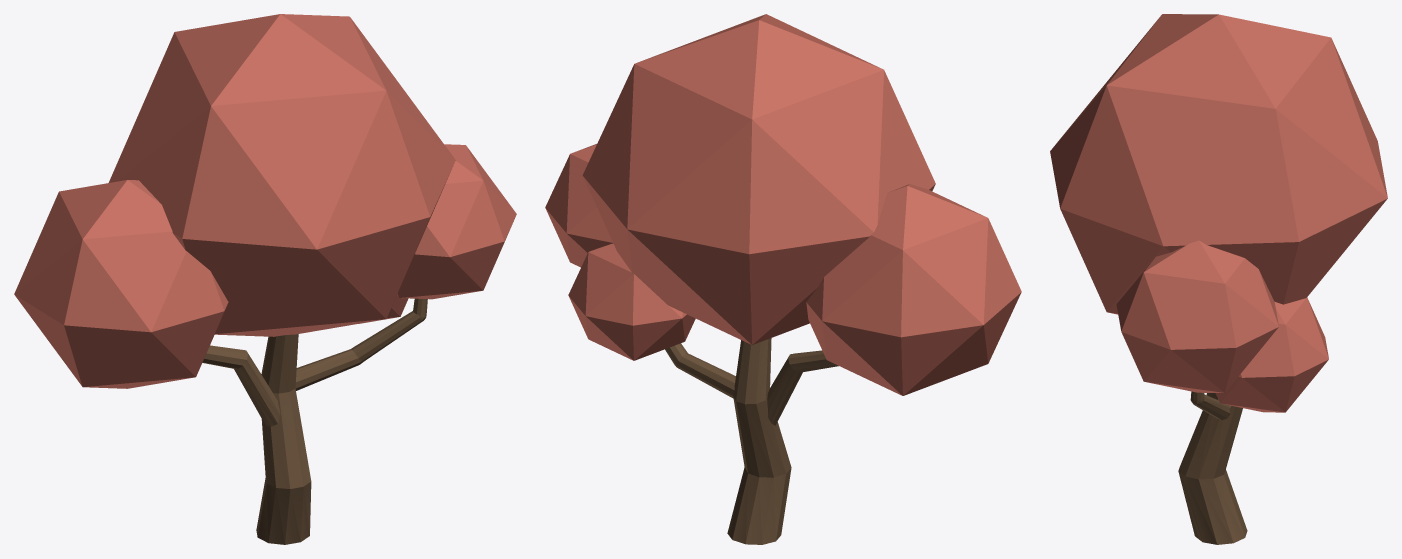
The model's file is tree_red_2.glb.
3 renders of one model, left to right at view 1: azimuth 30°, elevation 25°; view 2: azimuth 150°, elevation 25°; view 3: azimuth 270°, elevation 25°, orthographic.
Parts seen in each view (by area): view 1: Tree Red 2; view 2: Tree Red 2; view 3: Tree Red 2.
Part boxes in pixels (<box>): Tree Red 2: <box>14,14,516,544</box>; Tree Red 2: <box>545,14,1021,544</box>; Tree Red 2: <box>1050,14,1387,544</box>.
Bounding box in the file's own units: 0.2846 × 0.3088 × 0.1827.
